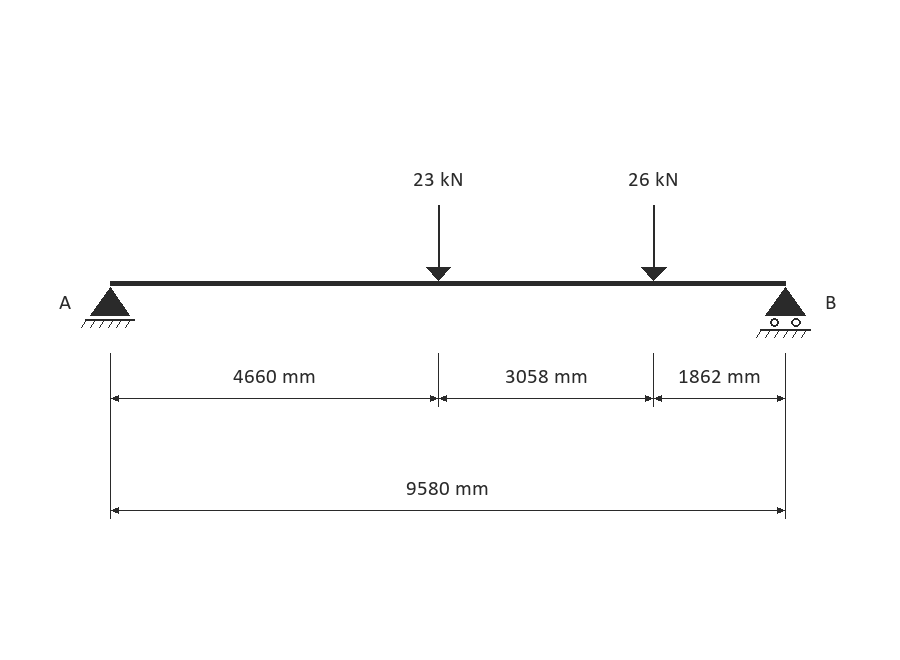pin_support: (81, 287, 135, 328)
point_load: (641, 205, 667, 281), (426, 205, 451, 281)
roller_support: (756, 287, 811, 338)
